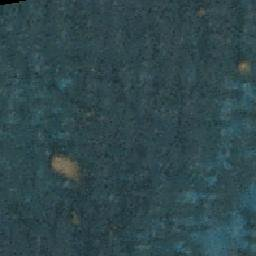debris: (49, 152, 79, 180), (235, 59, 250, 73)
